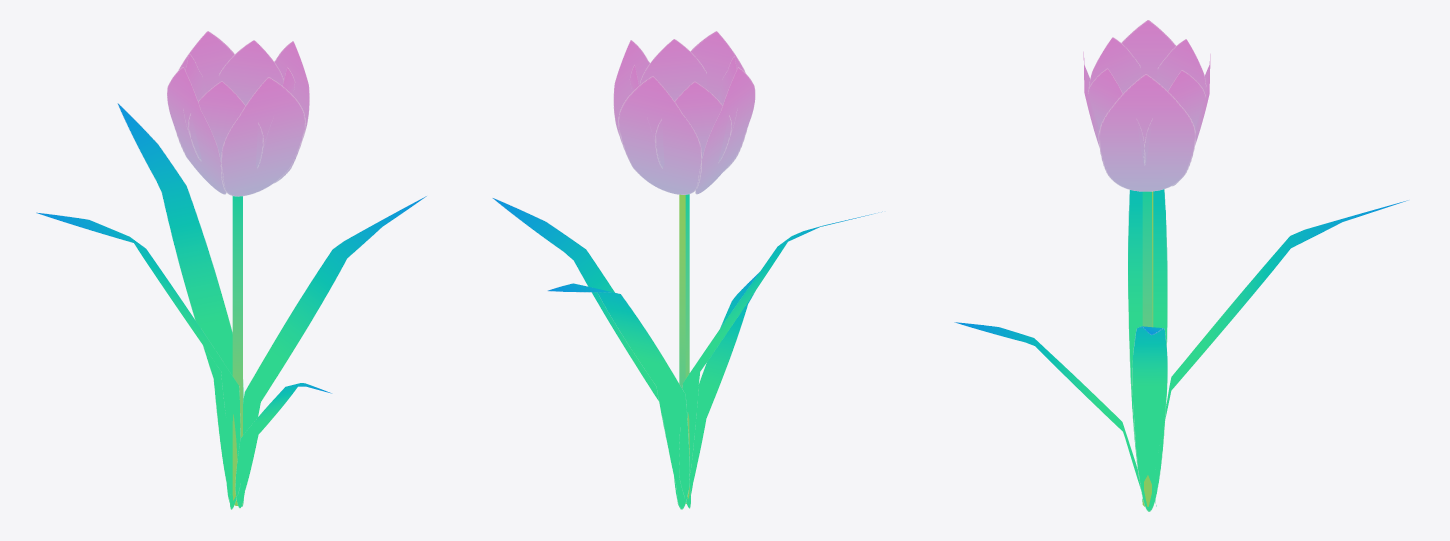
Rendered from Flowers_n02_22.fbx.
The picture shows the model from 3 angles, left to right: view 1: azimuth 30°, elevation 25°; view 2: azimuth 150°, elevation 25°; view 3: azimuth 270°, elevation 25°; orthographic projection. The views are drawn at different scales.
Visible parts, largest first — view 1: polySurface310; view 2: polySurface310; view 3: polySurface310.
Part boxes in pixels (x1,y1,x2,y2): polySurface310: (36,31,426,509); polySurface310: (492,31,882,509); polySurface310: (954,20,1408,511).
Size of the model in its own units: 39.79 by 41.82 by 38.83.
1 material, 1 textured.
